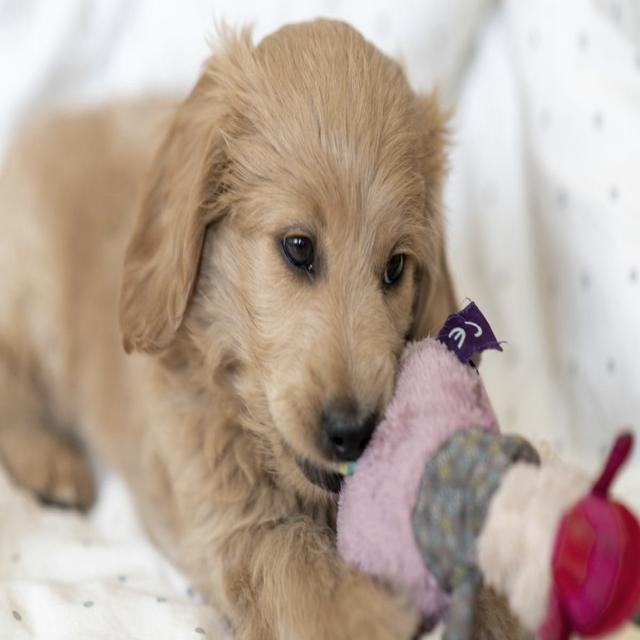dog: (0, 19, 457, 639)
